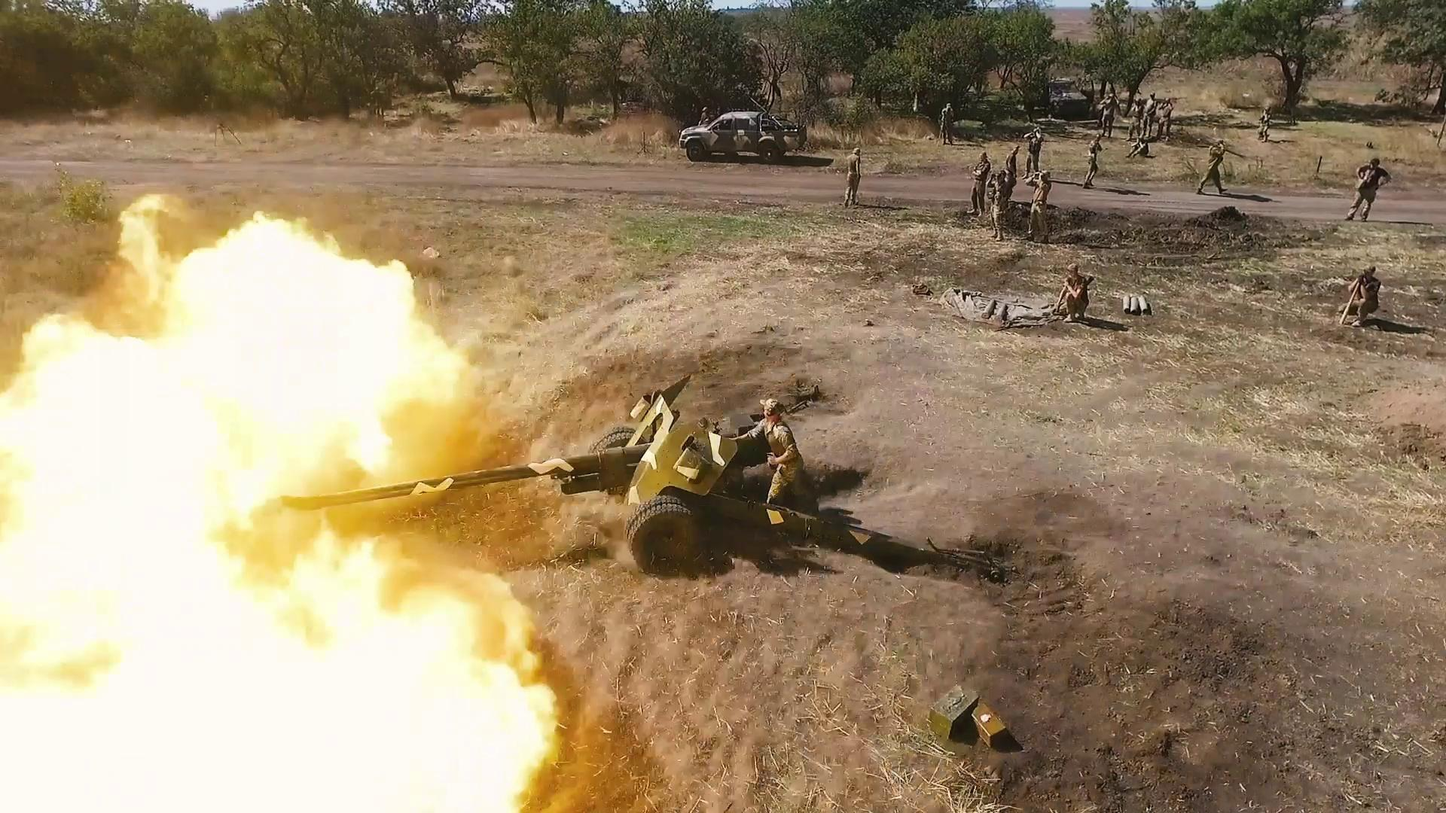car: (676, 109, 809, 164)
person: (755, 399, 805, 514), (1345, 156, 1393, 222), (1337, 263, 1382, 328), (1054, 263, 1094, 323), (1023, 169, 1051, 243), (985, 170, 1011, 241), (1195, 139, 1227, 195), (965, 151, 991, 218), (843, 146, 864, 209), (1019, 126, 1043, 180), (1081, 132, 1103, 190), (1097, 93, 1121, 137), (1124, 96, 1145, 142), (1153, 97, 1174, 142), (1002, 144, 1020, 194), (1140, 92, 1158, 139), (940, 103, 955, 146), (1125, 135, 1149, 160), (1257, 106, 1271, 142)
sau: (270, 372, 1005, 586)
